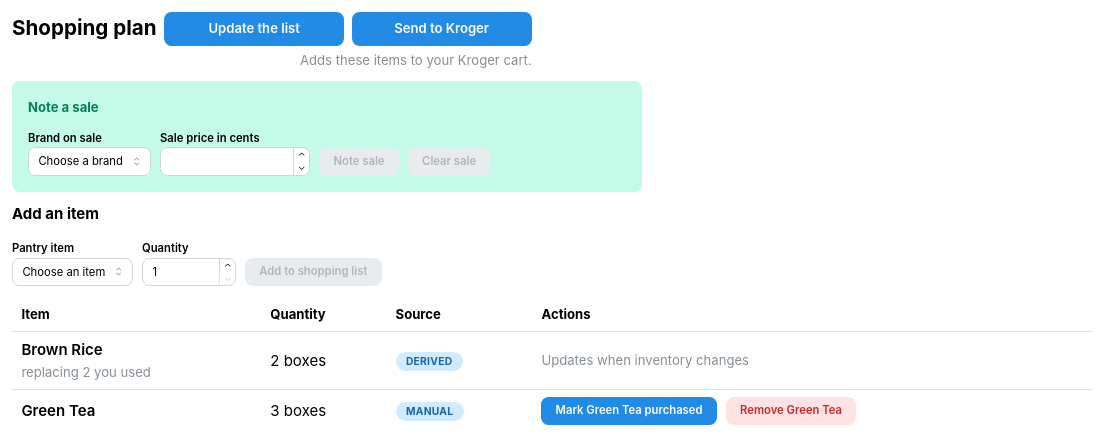
ShoppingListPage › renders derived and manual entries with product details and marks a manual item purchased
Check: the heading "Shopping plan" is shown, box [12,14,157,43]
Check: the button "Update the list" is shown, box [164,12,344,46]
Click the button "Mark Green Tea purchased": x=629, y=411 [542,397,717,425]
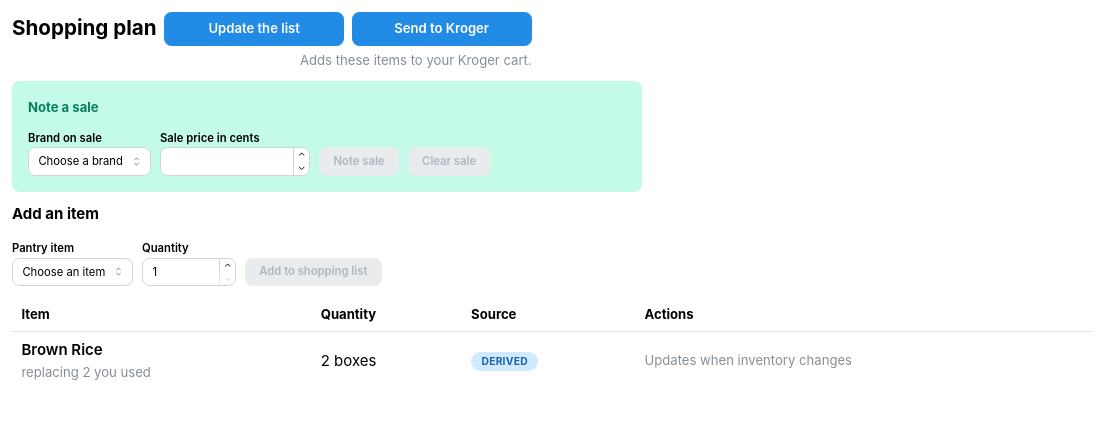
Check: the text "Green Tea" is gone
